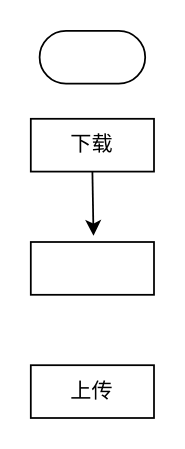
Image size: 185x449. Some labels were removed from this diagram. Here are the shapes that lost their labels. From the top down, the centre of each, then its label:
At point 91,56: "开始".
At point 91,267: "切割".
